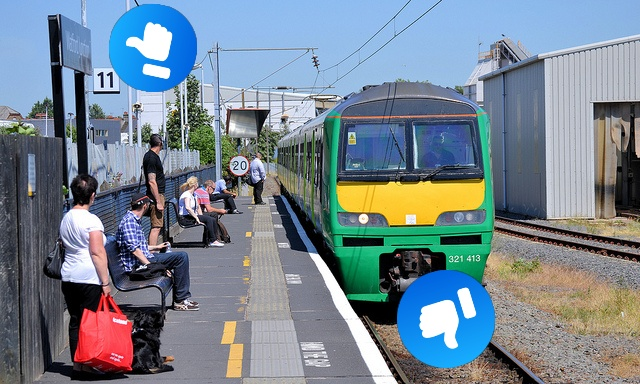like: (397, 270, 495, 368), (109, 4, 197, 92)
